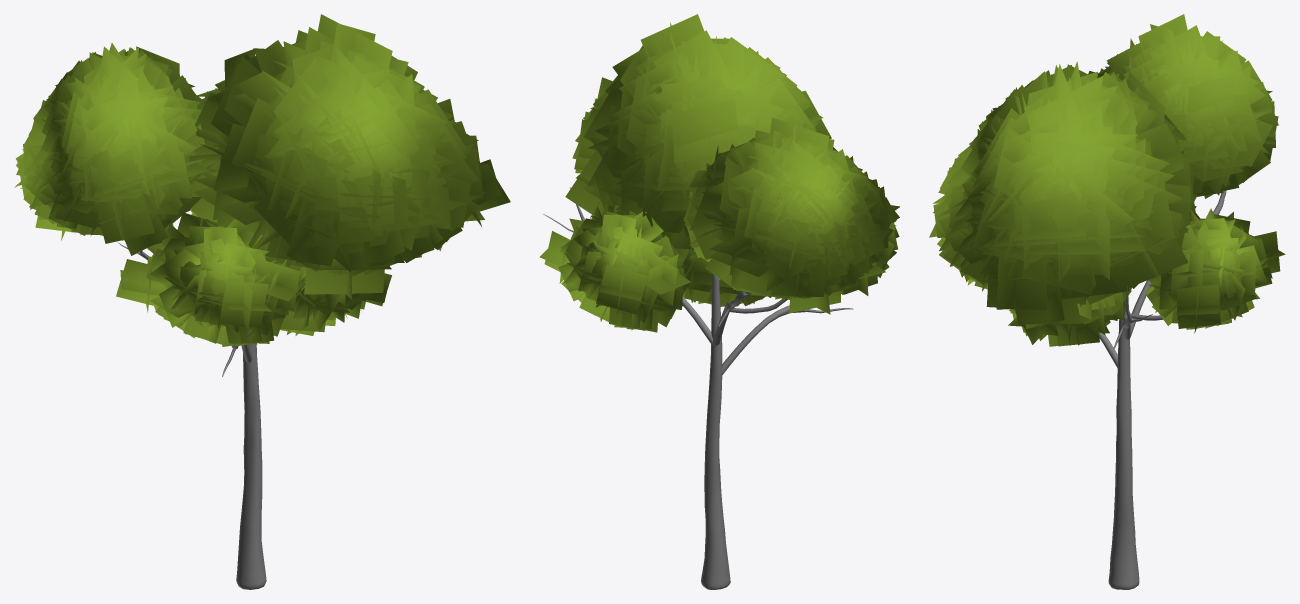
Rendered from SM_tree_01.fbx.
3 renders of one model, left to right at view 1: azimuth 30°, elevation 25°; view 2: azimuth 150°, elevation 25°; view 3: azimuth 270°, elevation 25°, orthographic. The views are drawn at different scales.
Visible parts, largest first — view 1: Group63286; view 2: Group63286; view 3: Group63286.
Part boxes in pixels (x1,y1,x2,y2): Group63286: [14, 14, 510, 589]; Group63286: [539, 14, 899, 589]; Group63286: [929, 14, 1285, 589].
Bounding box in the file's own units: 213 × 302 × 179.
